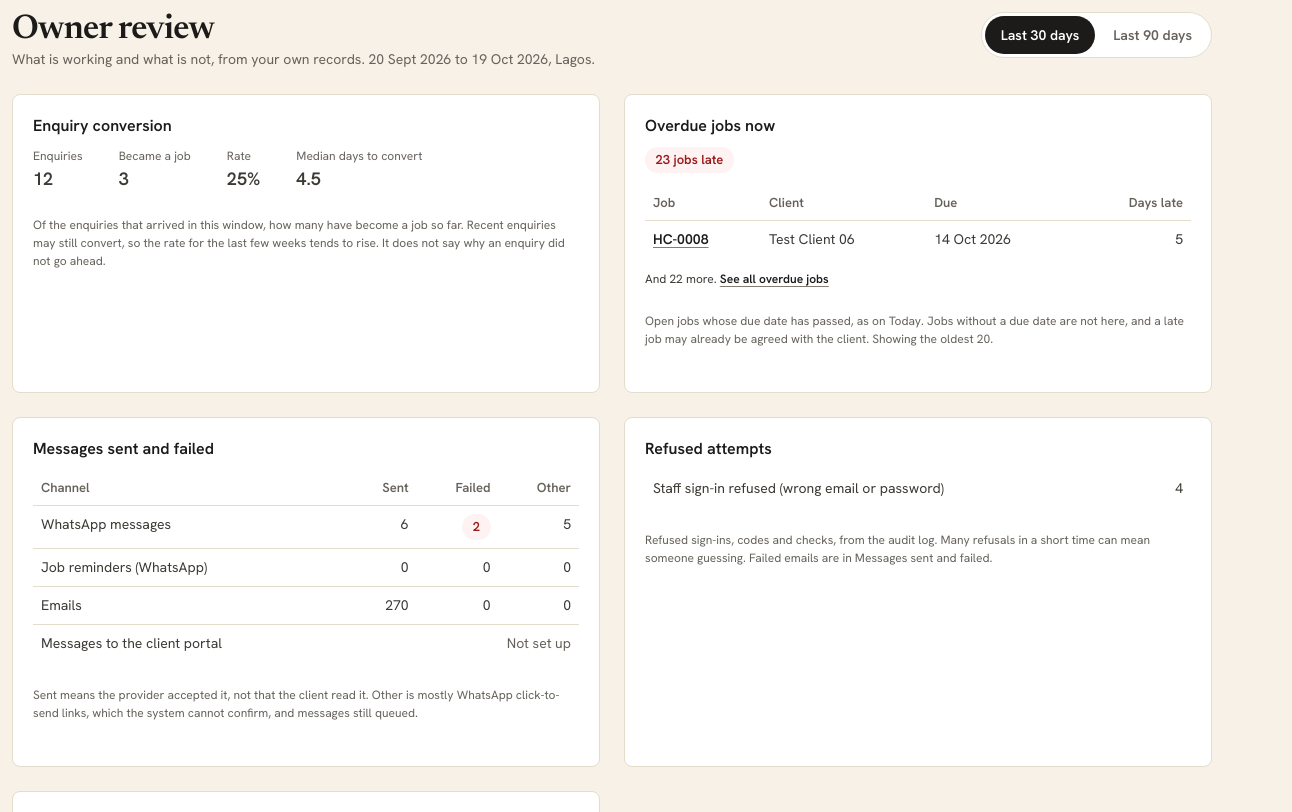
Test: owner review page › switches to 90 days and asks the server again
Check: the heading "Enquiry conversion" is shown, box [33, 115, 172, 136]
Click the button "Last 90 days" at (1153, 35), box [1097, 16, 1208, 54]
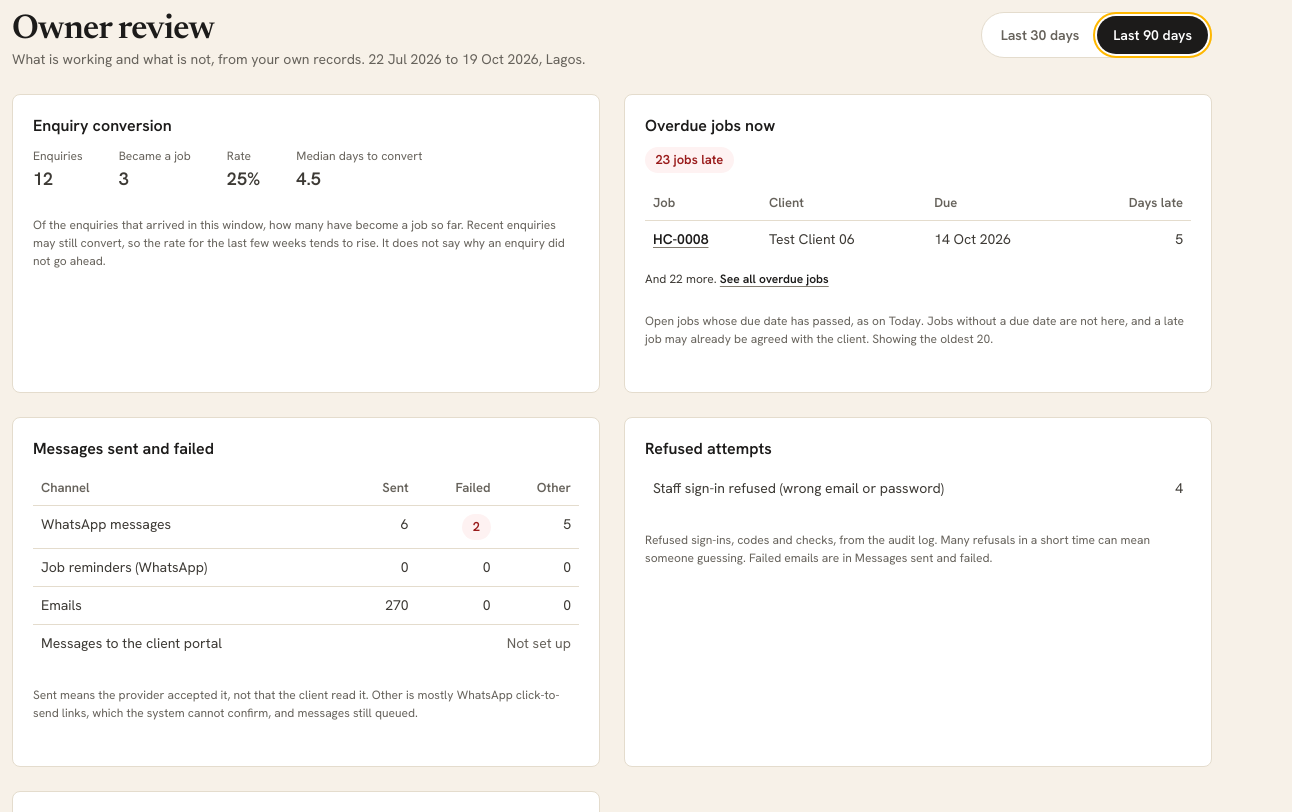
Check: the text "22 Jul 2026 to" is shown, box [365, 50, 585, 68]
